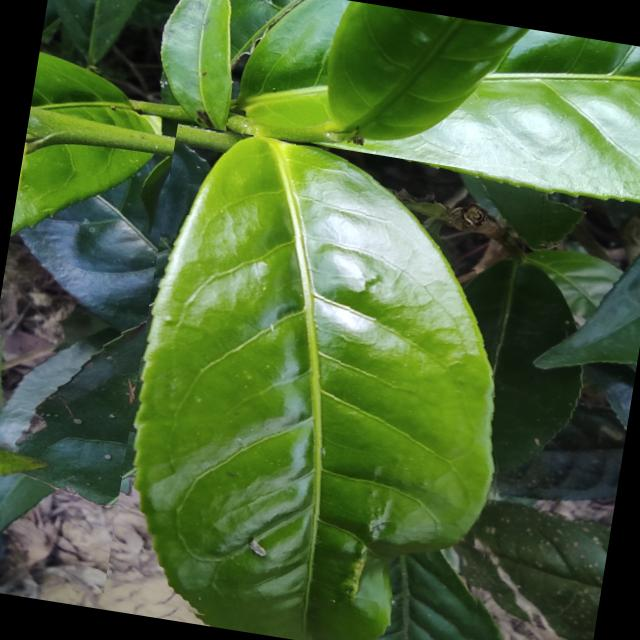Category B(2-4 days): (100, 123, 549, 640)
